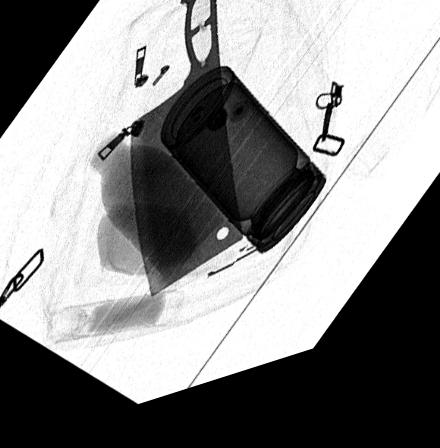Knife: (129, 0, 244, 307)
